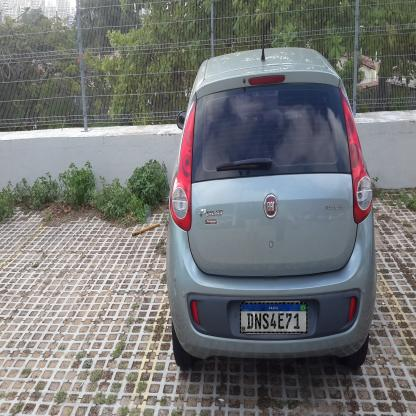PlacaM: (240, 302, 307, 334)
